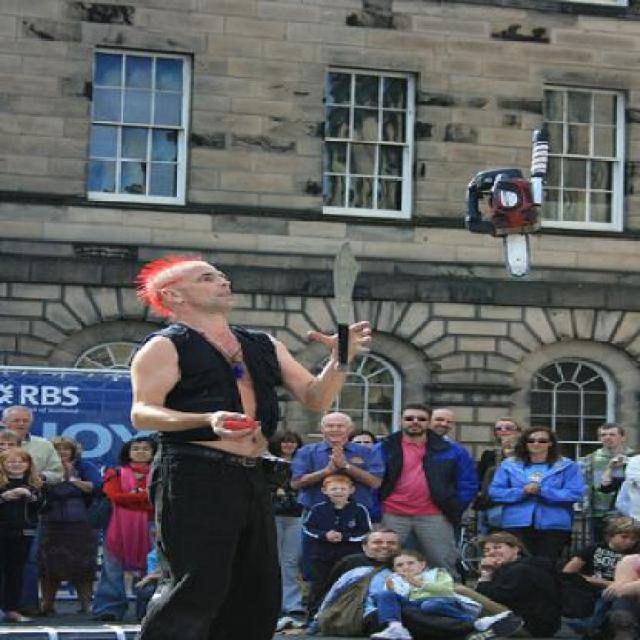Chainsaw: (461, 124, 552, 278)
